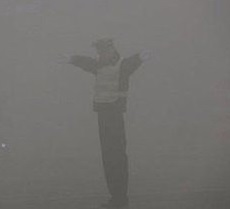person: (59, 36, 150, 209)
